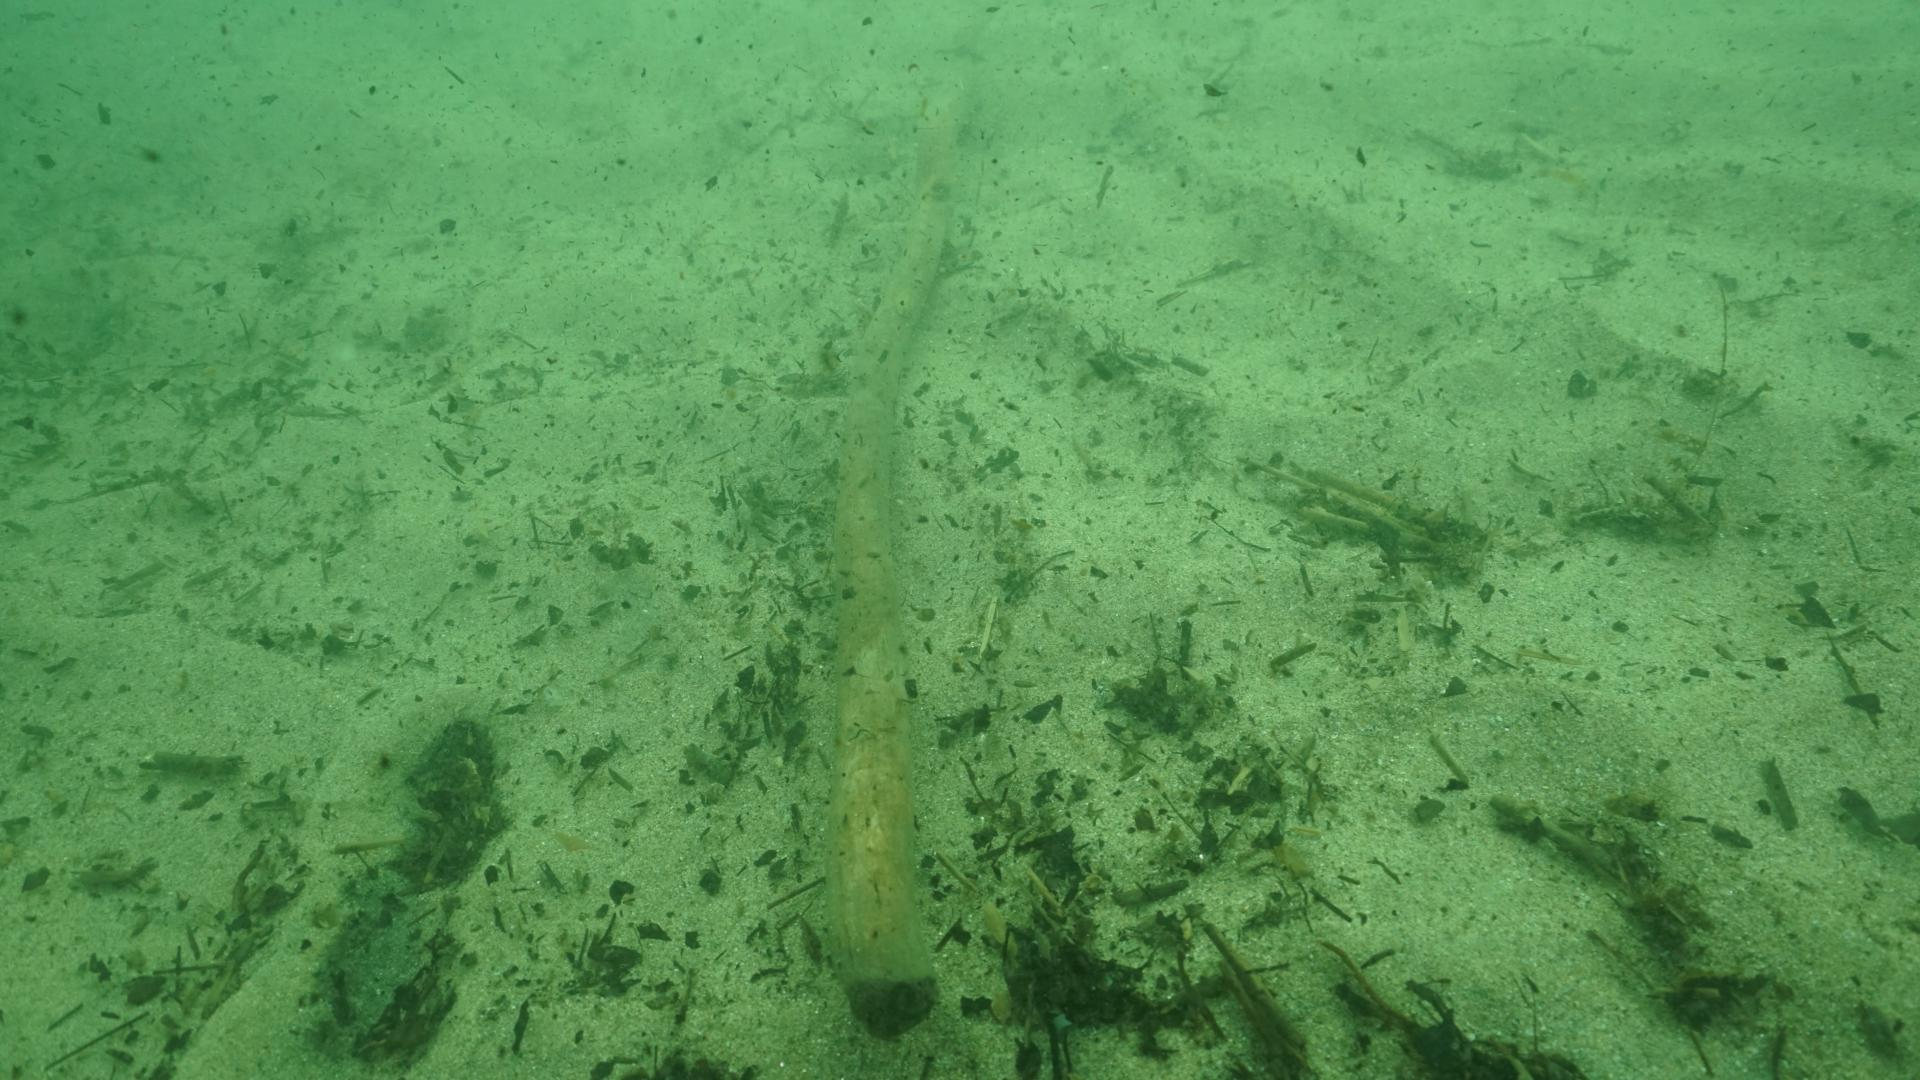wood: (825, 0, 975, 1039)
